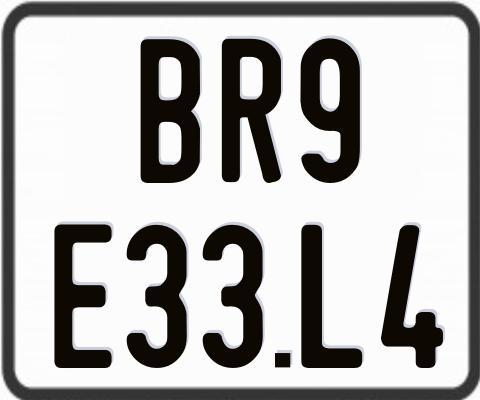3: (202, 224, 265, 370), (125, 223, 185, 368)
4: (380, 222, 445, 366)
9: (299, 35, 361, 183)
B: (140, 37, 202, 181)
E: (51, 223, 114, 368)
L: (300, 222, 363, 367)
R: (221, 39, 285, 183)
